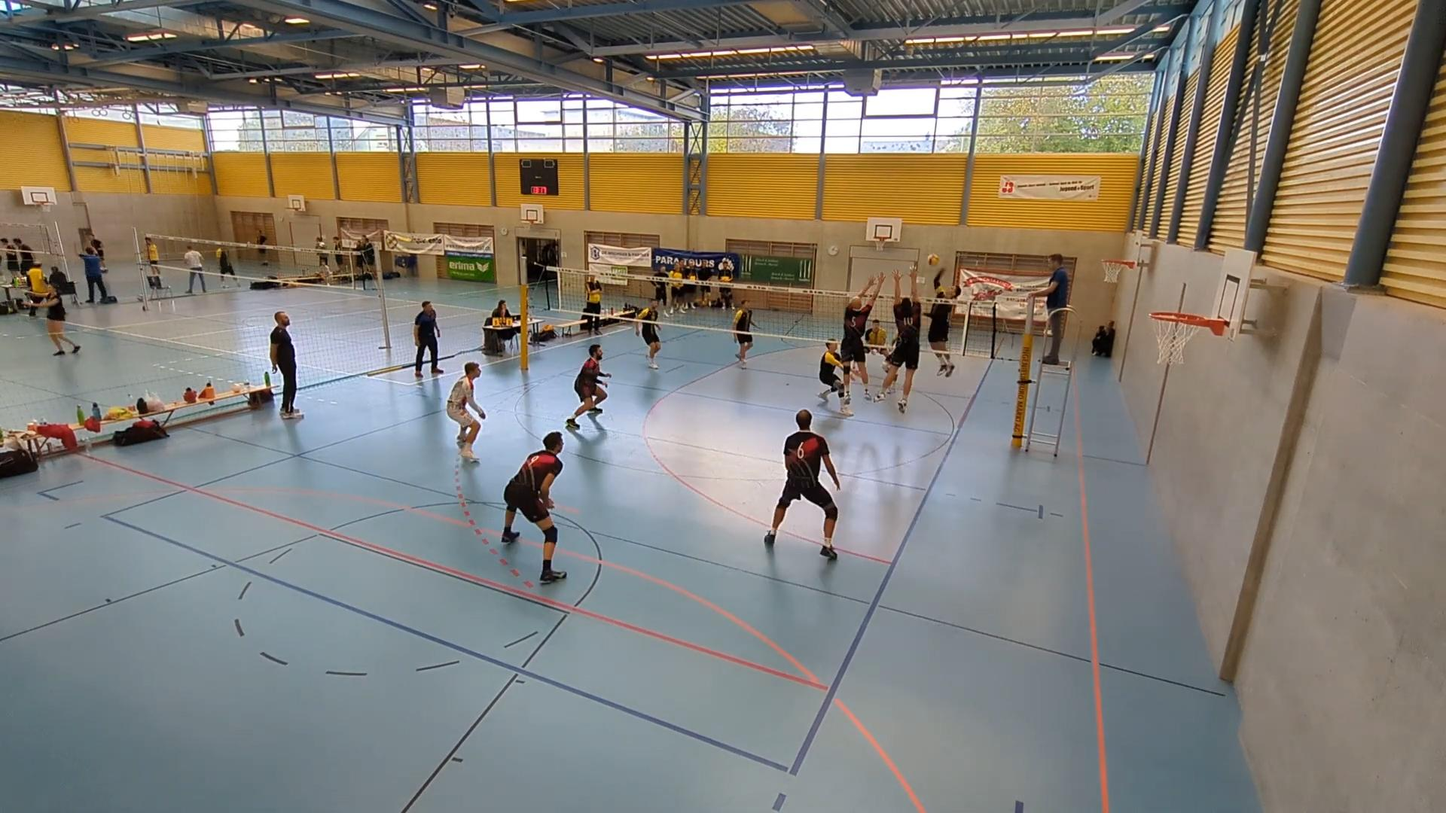Attack: (923, 248, 967, 381)
Block: (838, 272, 886, 407), (886, 269, 926, 407)
Player: (764, 410, 840, 559), (502, 431, 566, 583), (446, 361, 485, 461), (566, 343, 610, 429), (635, 299, 660, 370), (819, 340, 844, 403), (732, 299, 753, 367), (866, 319, 888, 355)
ball: (928, 256, 945, 267)
